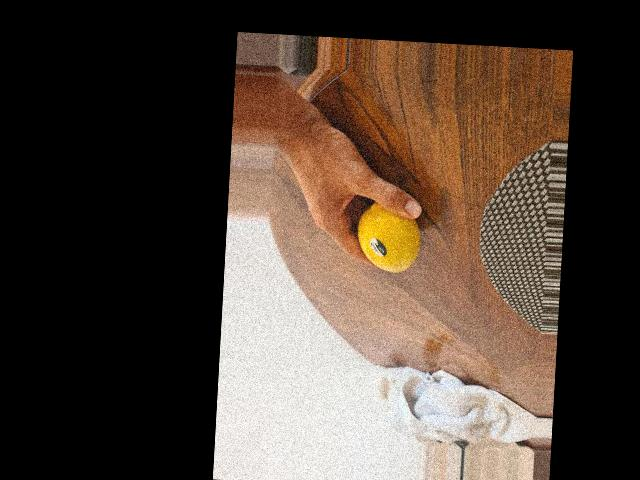lemon: (355, 197, 422, 274)
